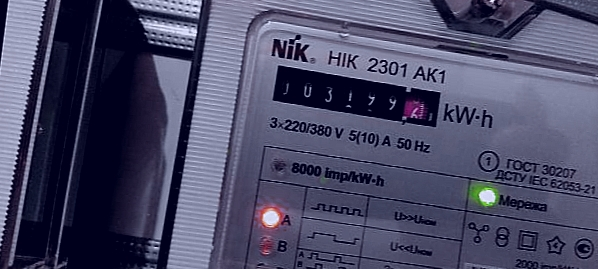0: (277, 73, 291, 95), (300, 76, 314, 97)
1: (344, 81, 356, 101)
3: (321, 81, 335, 102)
6: (409, 101, 421, 119)
9: (364, 85, 378, 106), (385, 89, 398, 110)
screen: (264, 58, 451, 134)
